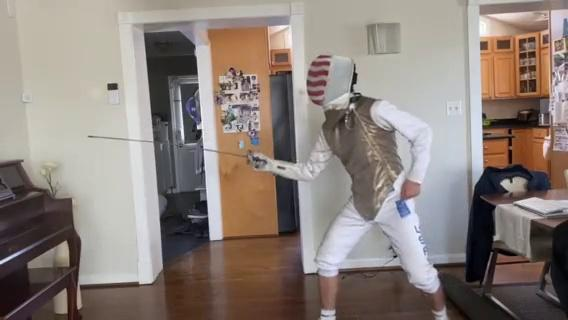blade-guard: (245, 148, 255, 168)
blade-tip: (86, 135, 130, 143)
fencing-blade: (82, 134, 270, 169)
